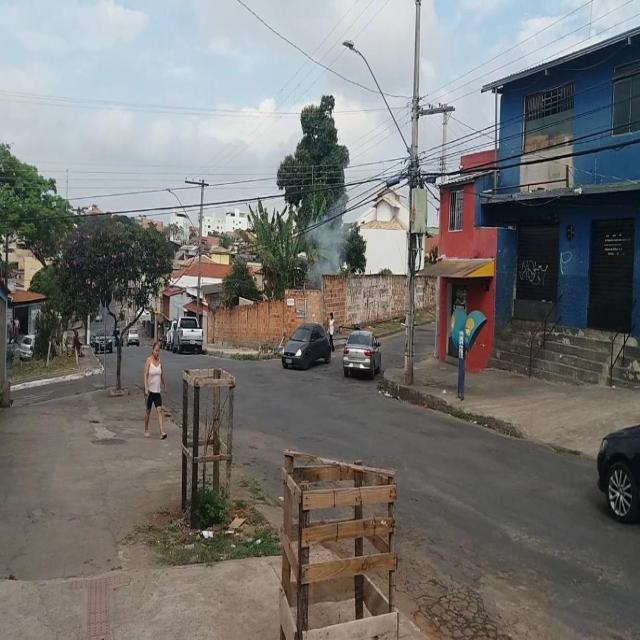Smoke: (304, 202, 350, 274)
